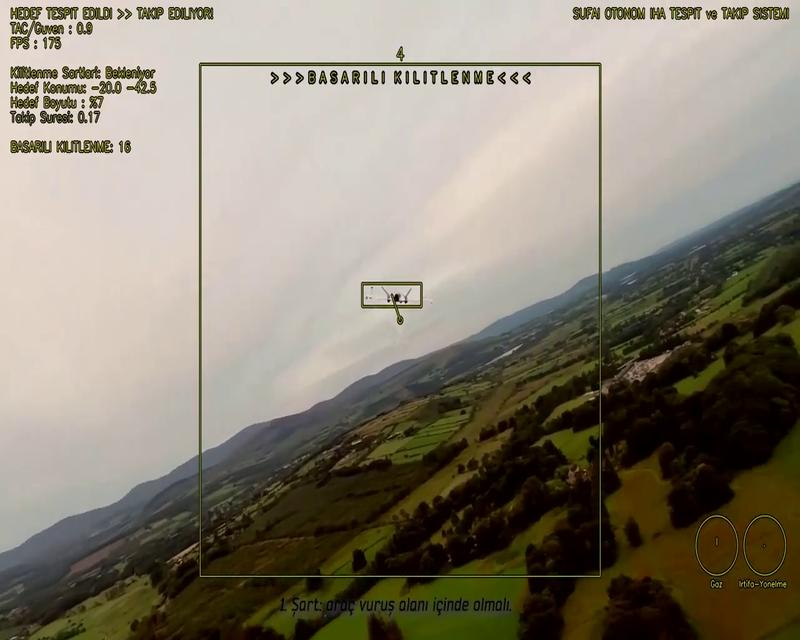UAV: (365, 288, 433, 305)
